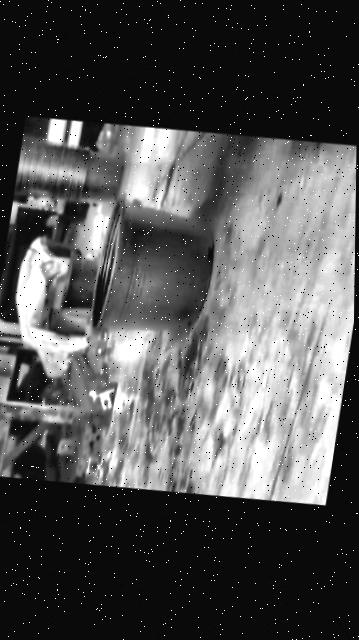pot: (86, 188, 220, 348)
